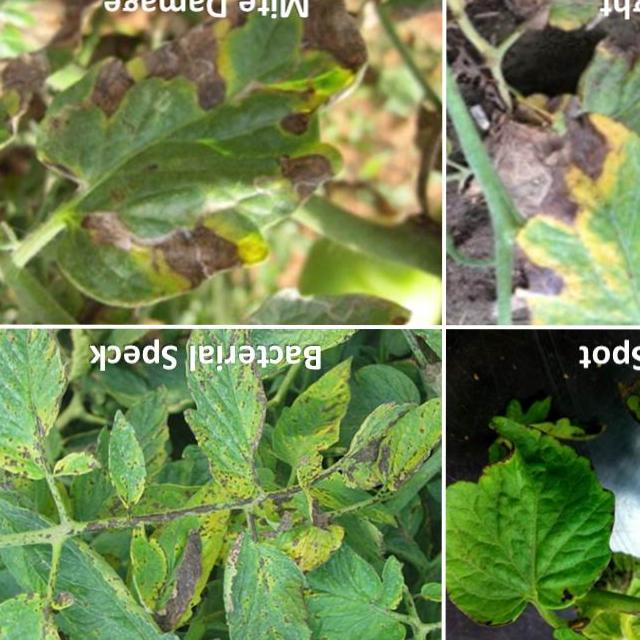Tomato Early blight leaf: (448, 387, 640, 618), (500, 0, 640, 314), (0, 492, 193, 640), (177, 334, 284, 522), (0, 337, 108, 490), (213, 516, 327, 640), (88, 412, 159, 529), (123, 531, 174, 622), (624, 348, 640, 616)
